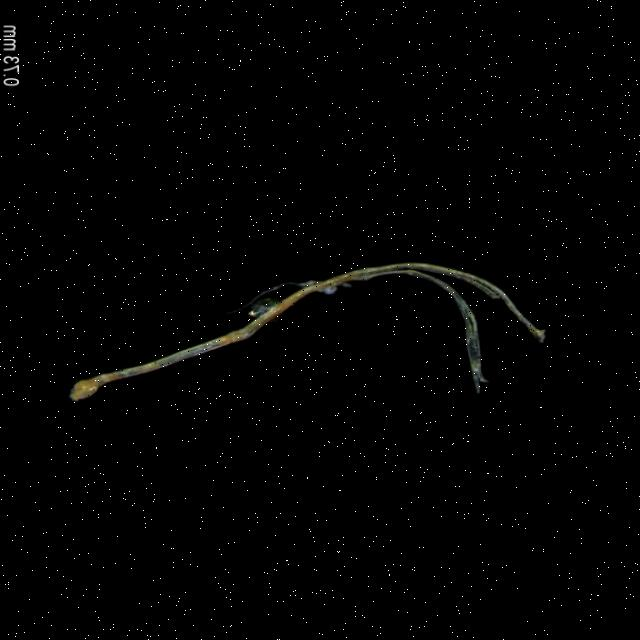Fibre: (63, 256, 554, 408)
